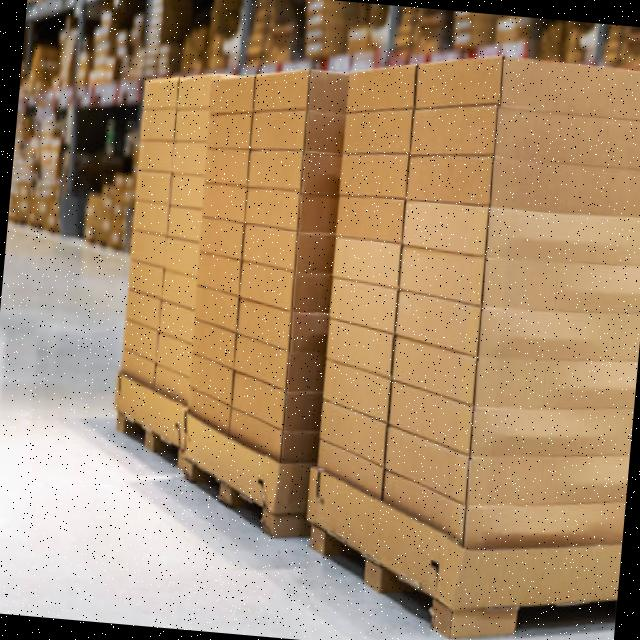Wooden-Pallets: (305, 506, 457, 640), (179, 439, 276, 540), (111, 396, 179, 474)
